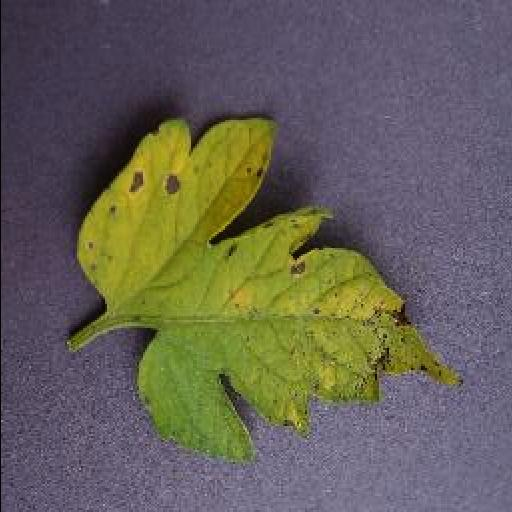disease_tomato: (74, 112, 460, 464)
